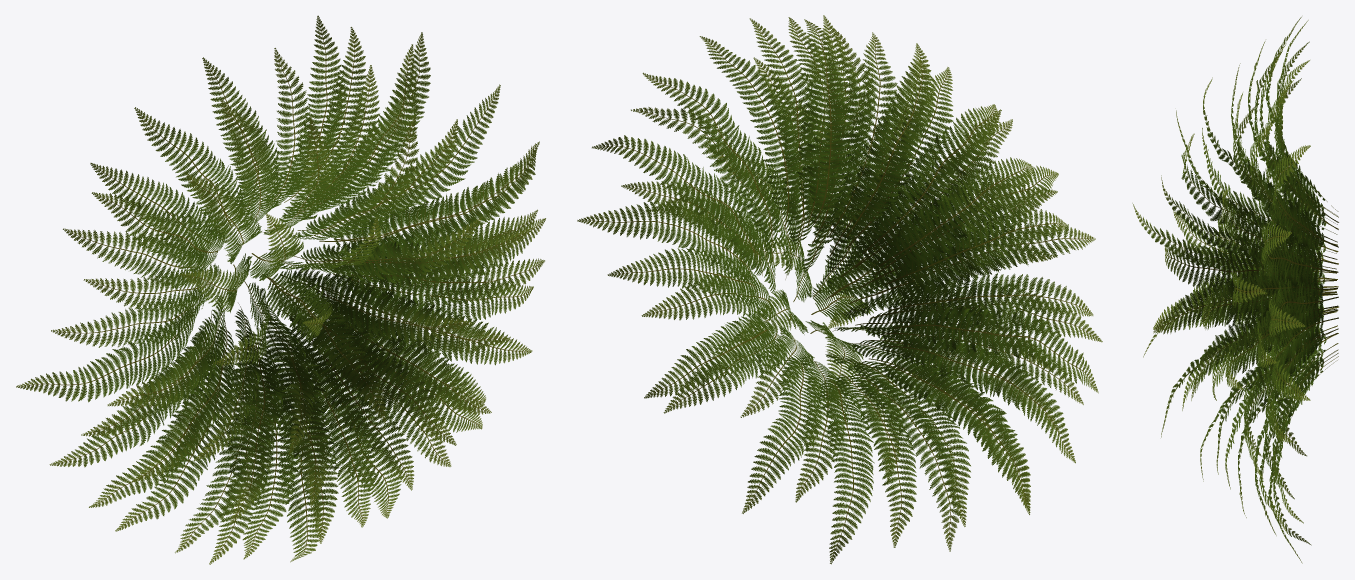
File: fern_3.obj
3 views of the same model, side by side, from view 1: azimuth 30°, elevation 25°; view 2: azimuth 150°, elevation 25°; view 3: azimuth 270°, elevation 25° (orthographic). The views are drawn at different scales.
Parts seen in each view (by area): view 1: Matteuccia_struthiopteris__A001; view 2: Matteuccia_struthiopteris__A001; view 3: Matteuccia_struthiopteris__A001.
Part boxes in pixels (left/top/right/bottom): Matteuccia_struthiopteris__A001: left=16, top=15, right=545, bottom=564; Matteuccia_struthiopteris__A001: left=577, top=15, right=1102, bottom=564; Matteuccia_struthiopteris__A001: left=1132, top=17, right=1338, bottom=563.
Size of the model in its own units: 1.1 by 1.08 by 0.4082.
Materials: 1 (1 with a texture image).
